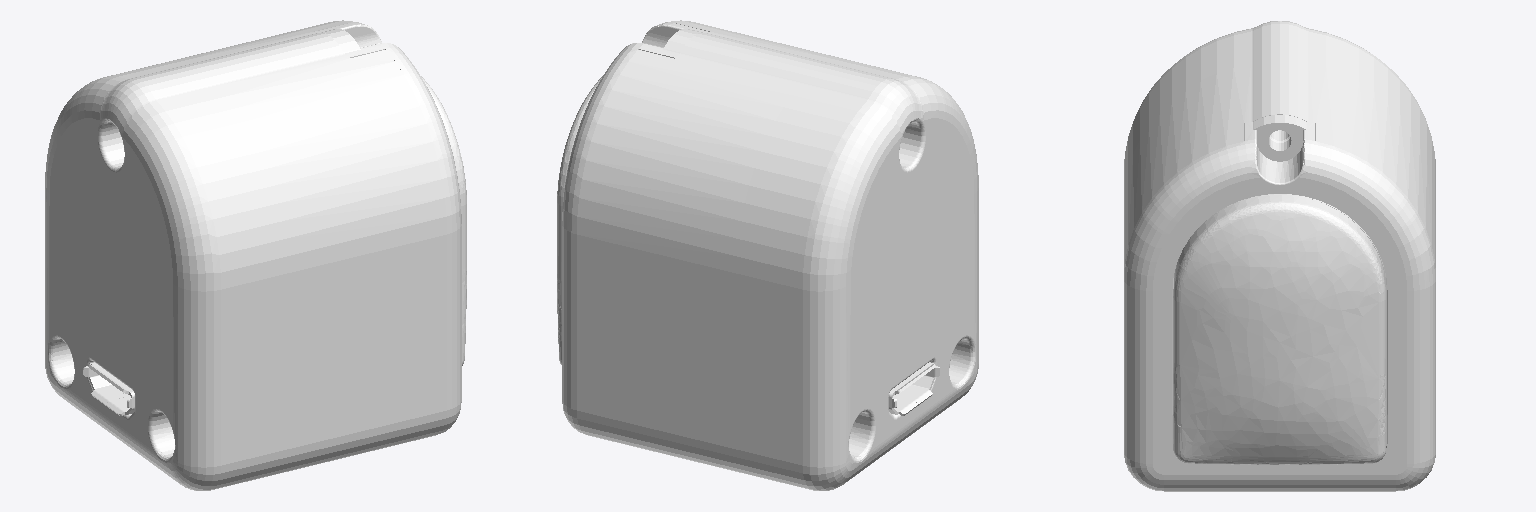
robot.urdf — digit:
<?xml version="1.0" ?>
<robot name="digit">
  <link concave="yes" name="baseLink">
    <inertial>
      <origin rpy="0 0 0" xyz="0 0 0"/>
       <mass value=".1"/>
       <inertia ixx="1" ixy="0" ixz="0" iyy="1" iyz="0" izz="1"/>
    </inertial>
    <visual>
      <origin rpy="0 0 0" xyz="0 0 0"/>
      <geometry>
				<mesh filename="digit.STL" scale="1 1 1"/>
      </geometry>
       <material name="white">
        <color rgba="1 1 1 1"/>
      </material>
    </visual>
    <collision concave="yes">
      <origin rpy="0 0 0" xyz="0 0 0"/>
     <geometry>
				<mesh filename="digit.STL" scale="1 1 1"/>
      </geometry>
    </collision>
  </link>
</robot>

--- Render facts (derived) ---
Views: 3 orthographic renders of the robot side by side, from view 1: azimuth 30°, elevation 25°; view 2: azimuth 150°, elevation 25°; view 3: azimuth 270°, elevation 25°.
Model digit with 1 links and 0 joints (none), rooted at baseLink, posed every joint at zero.
Links seen in each view (by area): view 1: baseLink; view 2: baseLink; view 3: baseLink.
Link boxes in pixels (box(x1,y1,x2,y2)): baseLink: box(45, 20, 466, 490); baseLink: box(557, 20, 978, 490); baseLink: box(1124, 21, 1435, 491).
Size in the robot's own frame: 0.0323 by 0.027 by 0.034 metres.
Meshes: 1 distinct files referenced, 1 mesh visuals loaded (1 binary STL).